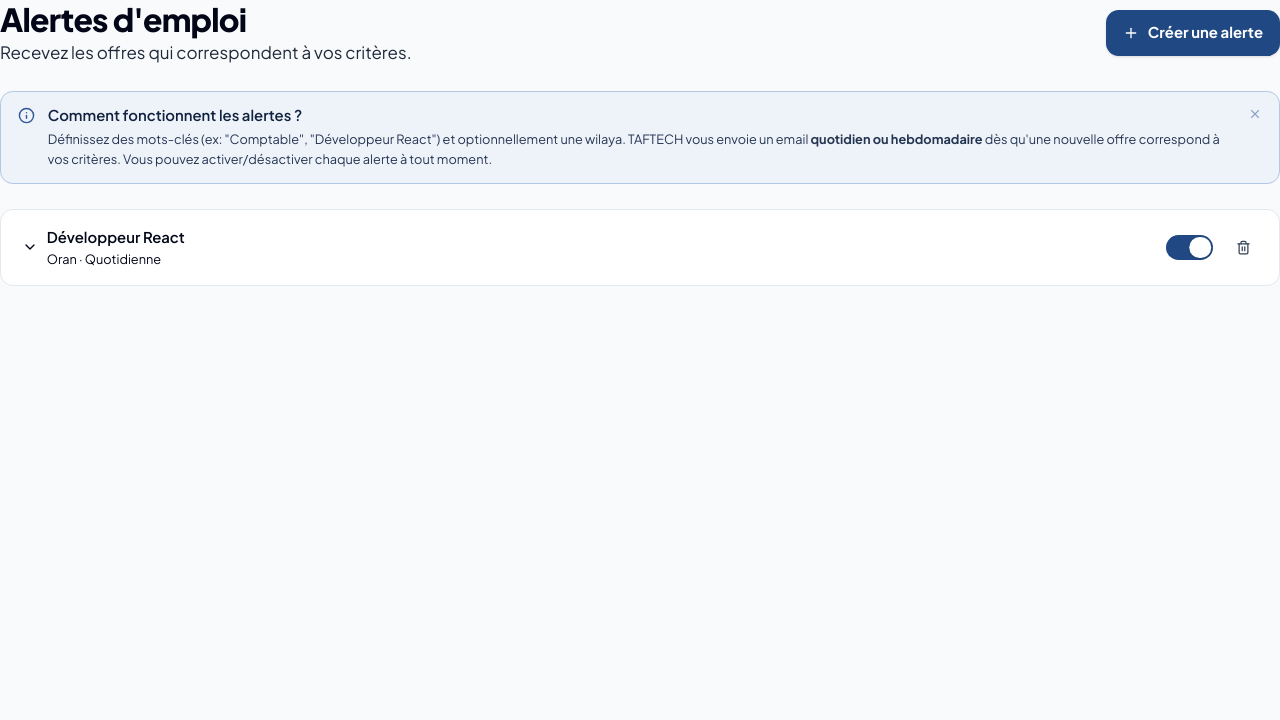
🔔 UI & Logique - Composant <AlertesEmploi /> › 🟢 HP2 : Création d'une nouvelle alerte
The image size is (1280, 720).
Expected: the text "Développeur React" is shown, [47,227,185,248]
Click the button "Créer une alerte" at (1193, 33), box [1106,10,1279,56]
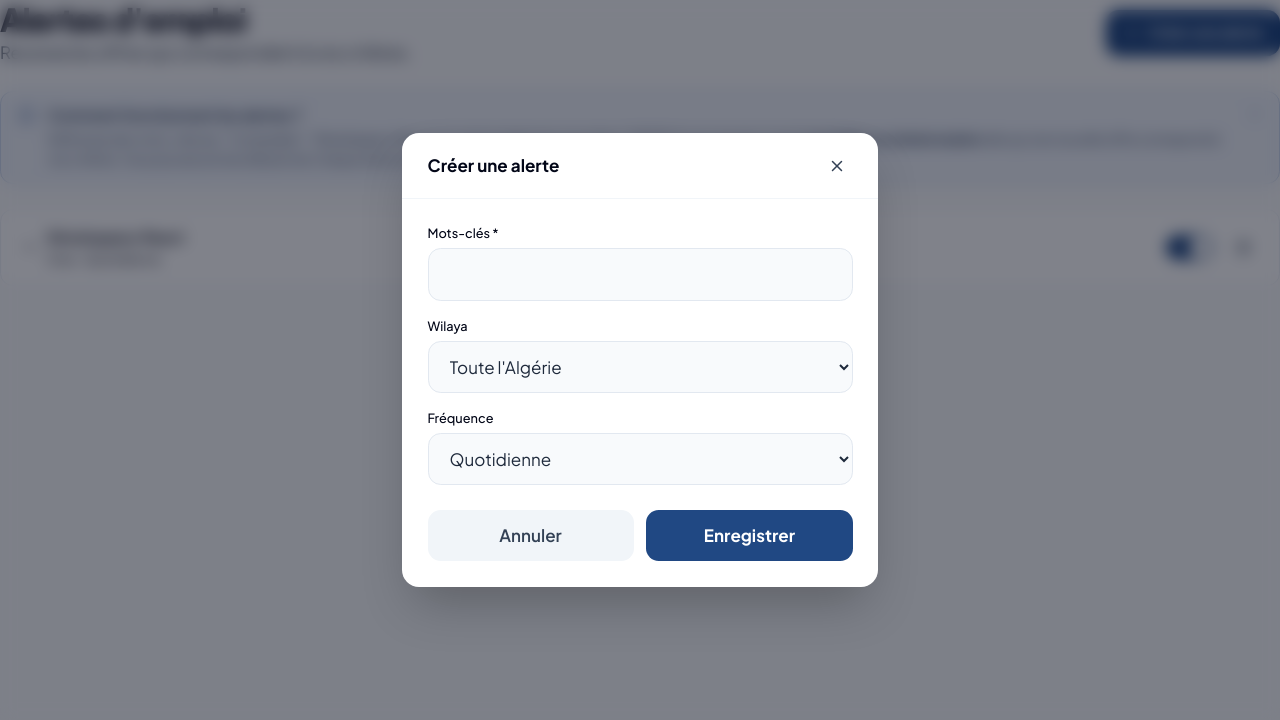
Type "Designer" into the field at (640, 274), box [428,248,852,301]
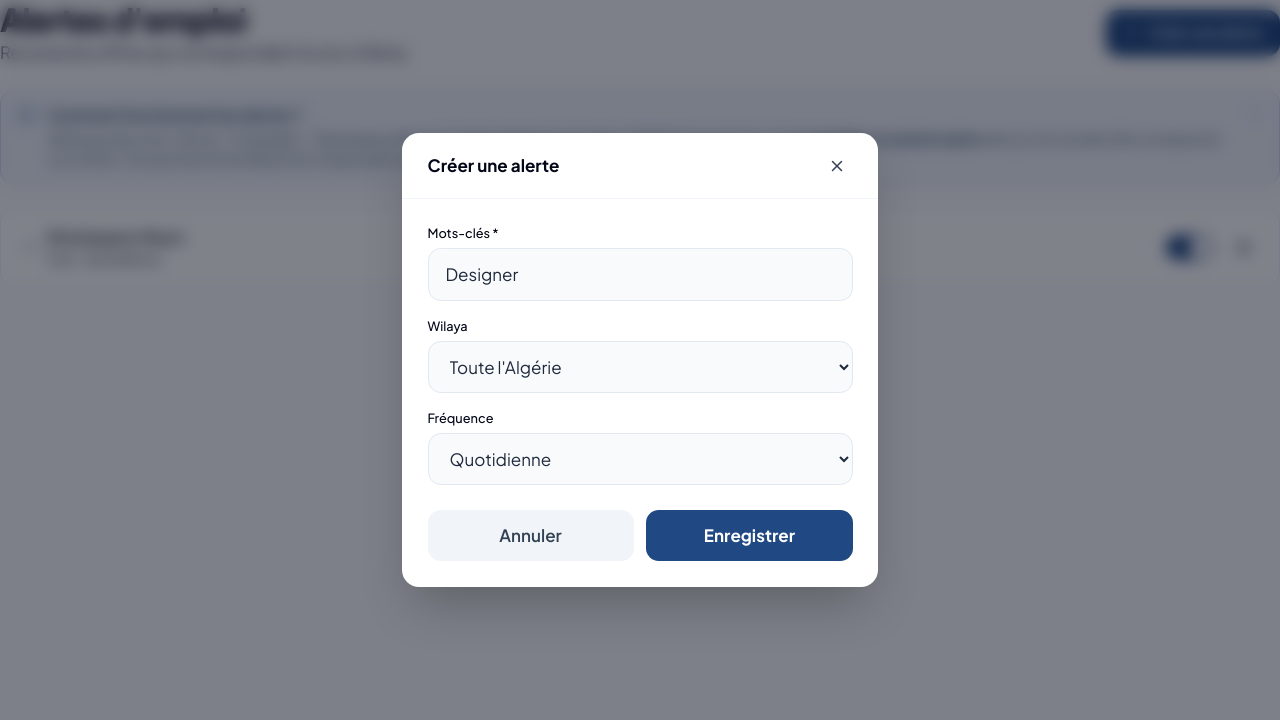
Click the button "Enregistrer" at (749, 536), box [646,510,852,561]
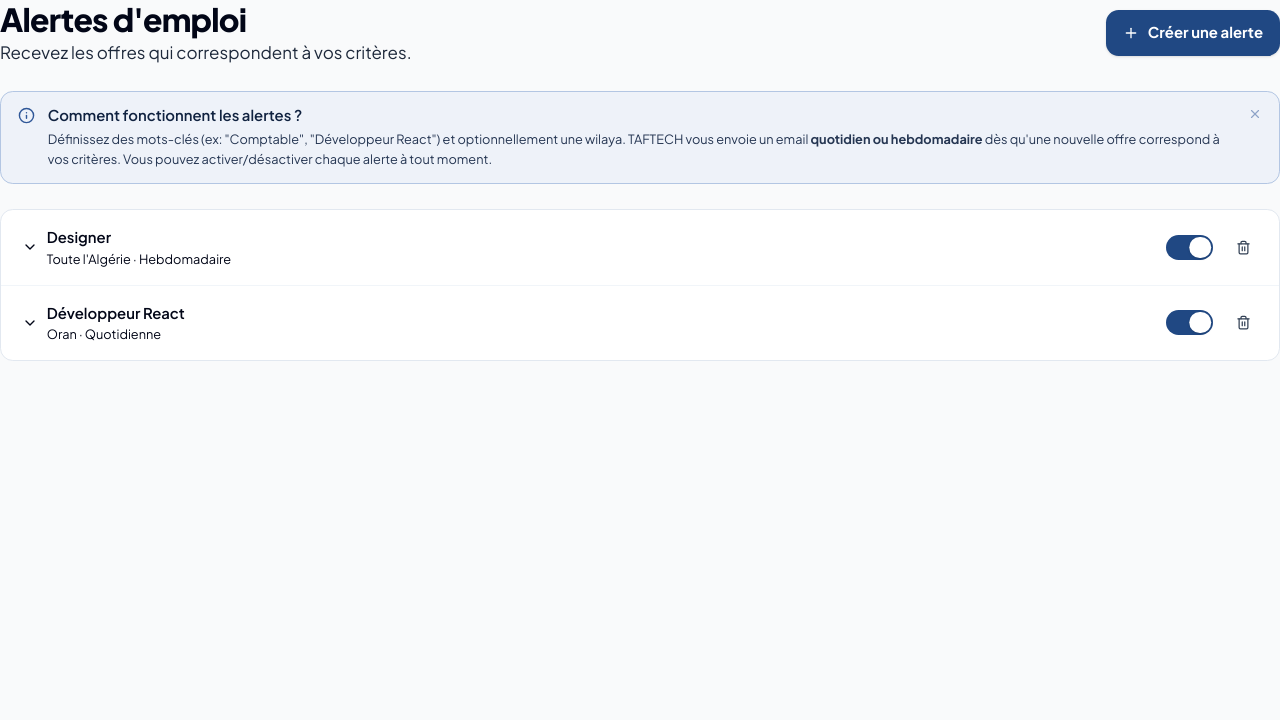
Expected: the text "Designer" is shown, [47,228,111,246]
